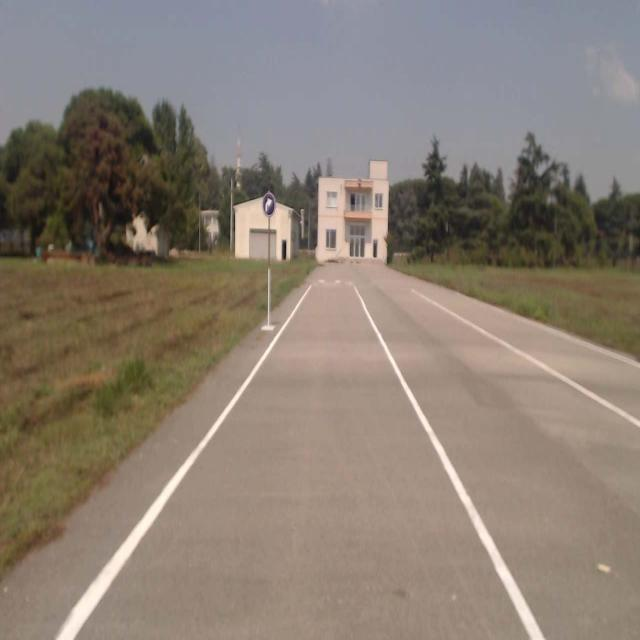sag: (262, 190, 274, 216)
